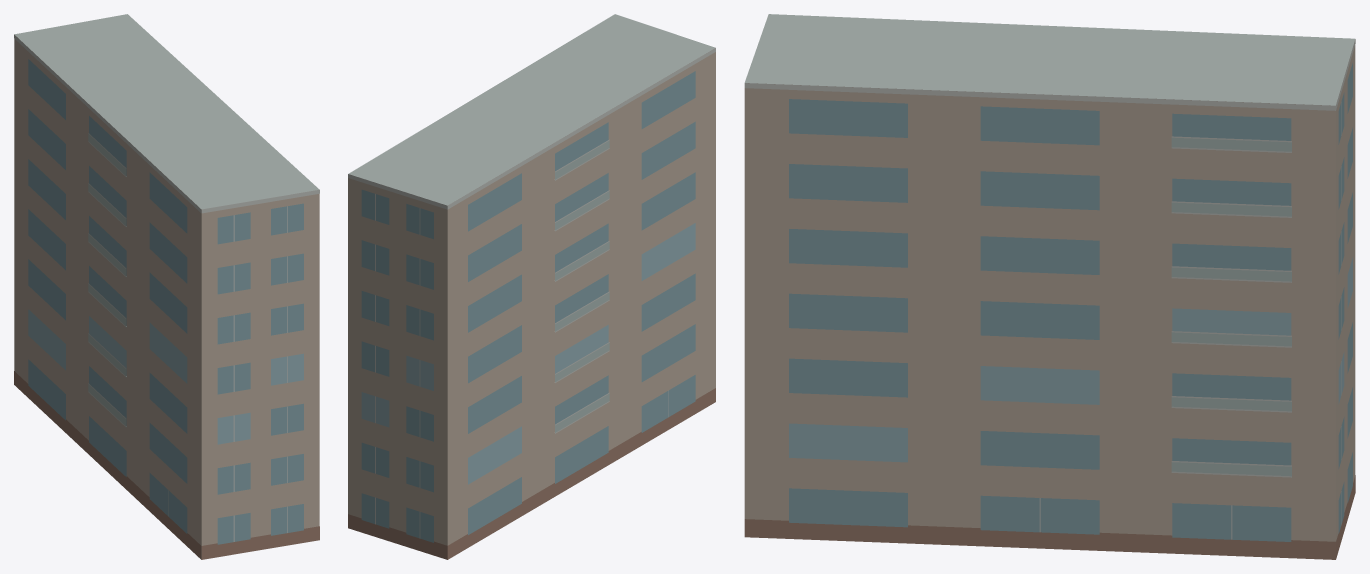
The model's file is survey-upis-32662551.glb.
3 views of the same model, side by side, from view 1: azimuth 30°, elevation 25°; view 2: azimuth 150°, elevation 25°; view 3: azimuth 270°, elevation 25° (orthographic). The views are drawn at different scales.
Visible parts, largest first — view 1: survey-upis-32662551.tmp; view 2: survey-upis-32662551.tmp; view 3: survey-upis-32662551.tmp.
Boxes of the visible parts, x1=… form: survey-upis-32662551.tmp: x1=14, y1=14, x2=319, y2=559; survey-upis-32662551.tmp: x1=348, y1=14, x2=715, y2=559; survey-upis-32662551.tmp: x1=744, y1=14, x2=1355, y2=559.
Size of the model in its own units: 9.25 by 21.35 by 26.03.
